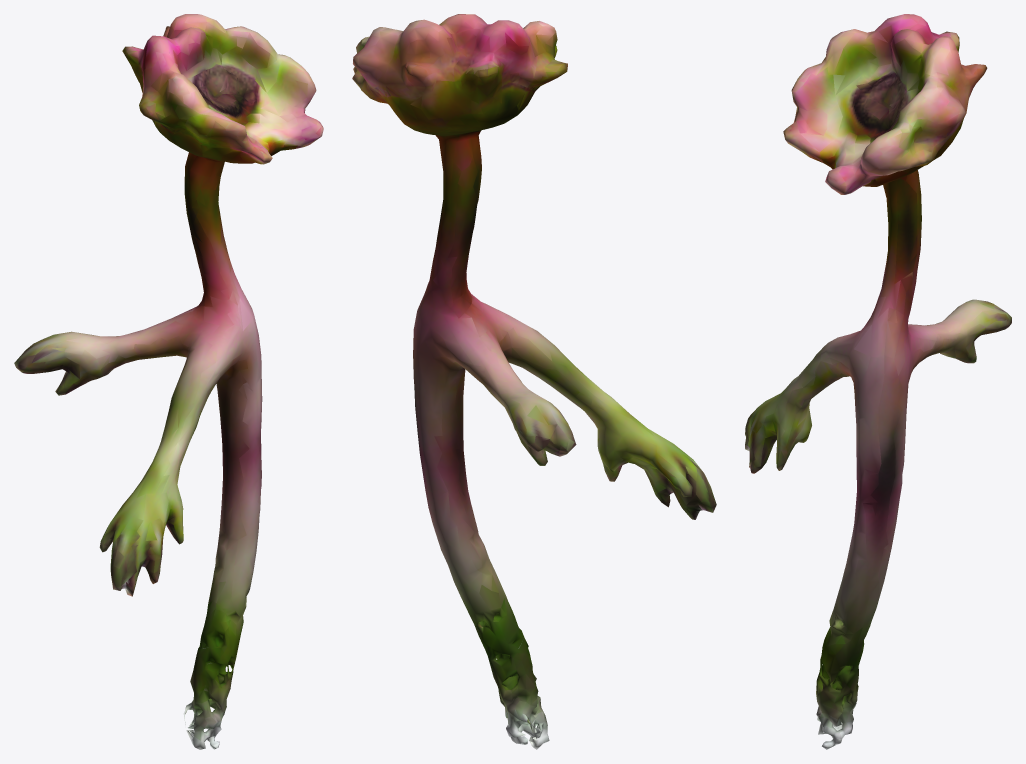
File: flower2.glb
3 views of the same model, side by side, from view 1: azimuth 30°, elevation 25°; view 2: azimuth 150°, elevation 25°; view 3: azimuth 270°, elevation 25° (orthographic). The views are drawn at different scales.
Visible parts, largest first — view 1: flower2; view 2: flower2; view 3: flower2.
Part boxes in pixels (x1,y1,x2,y2): flower2: (14,14,323,749); flower2: (352,14,716,749); flower2: (745,14,1011,749).
Bounding box in the file's own units: 0.6731 × 1.71 × 0.5721.
1 material, 1 textured.
